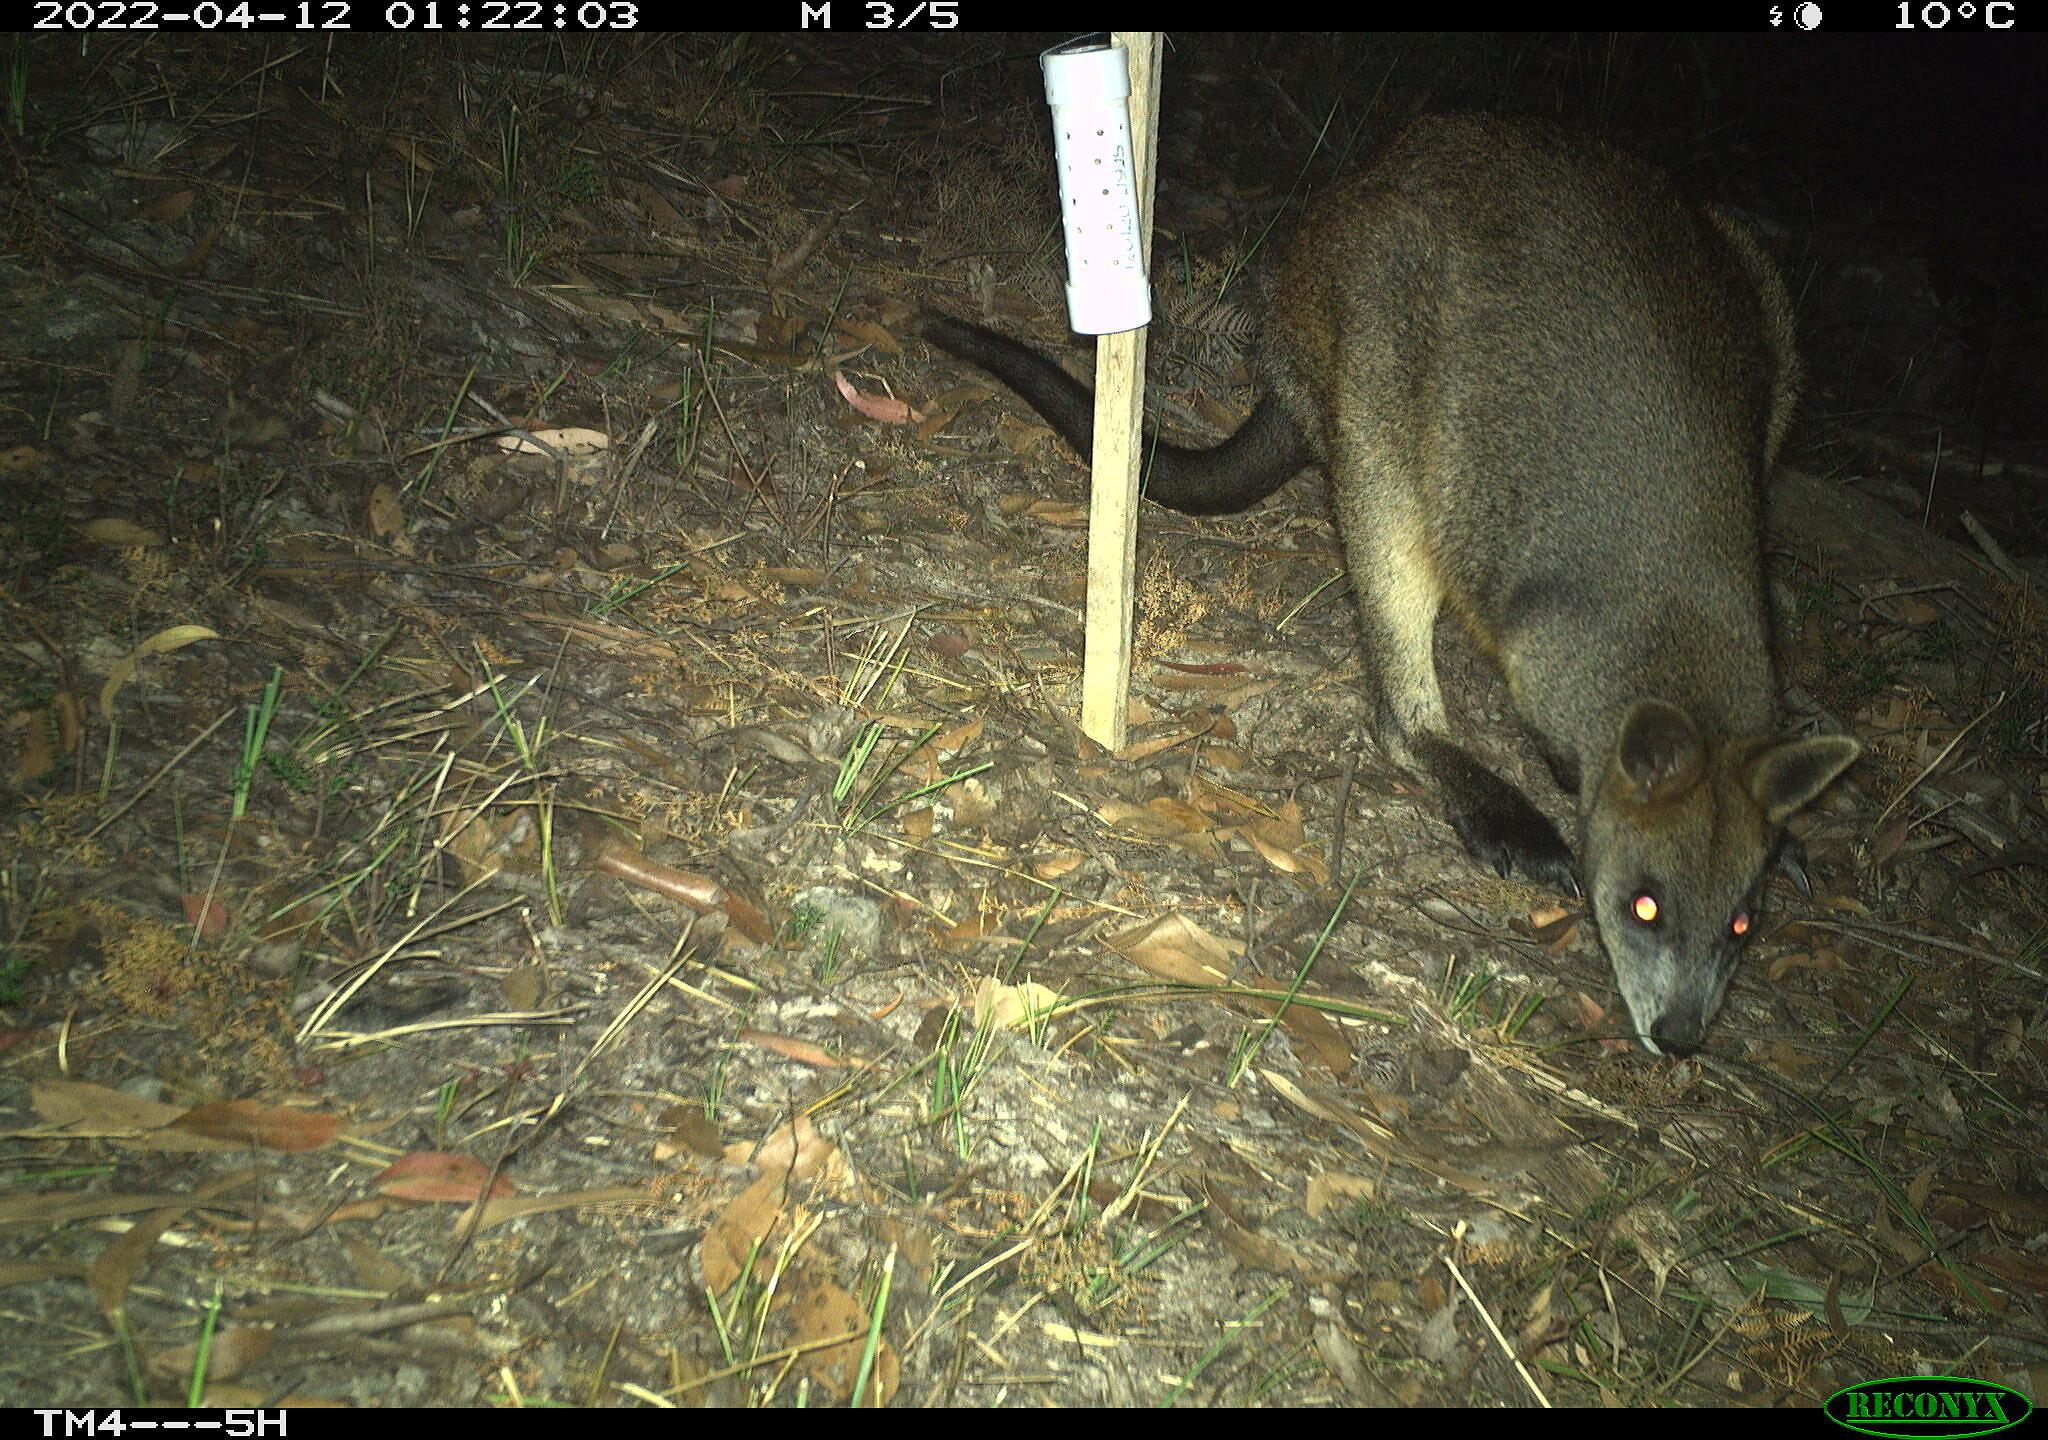Swamp wallaby: (915, 109, 1866, 1078)
